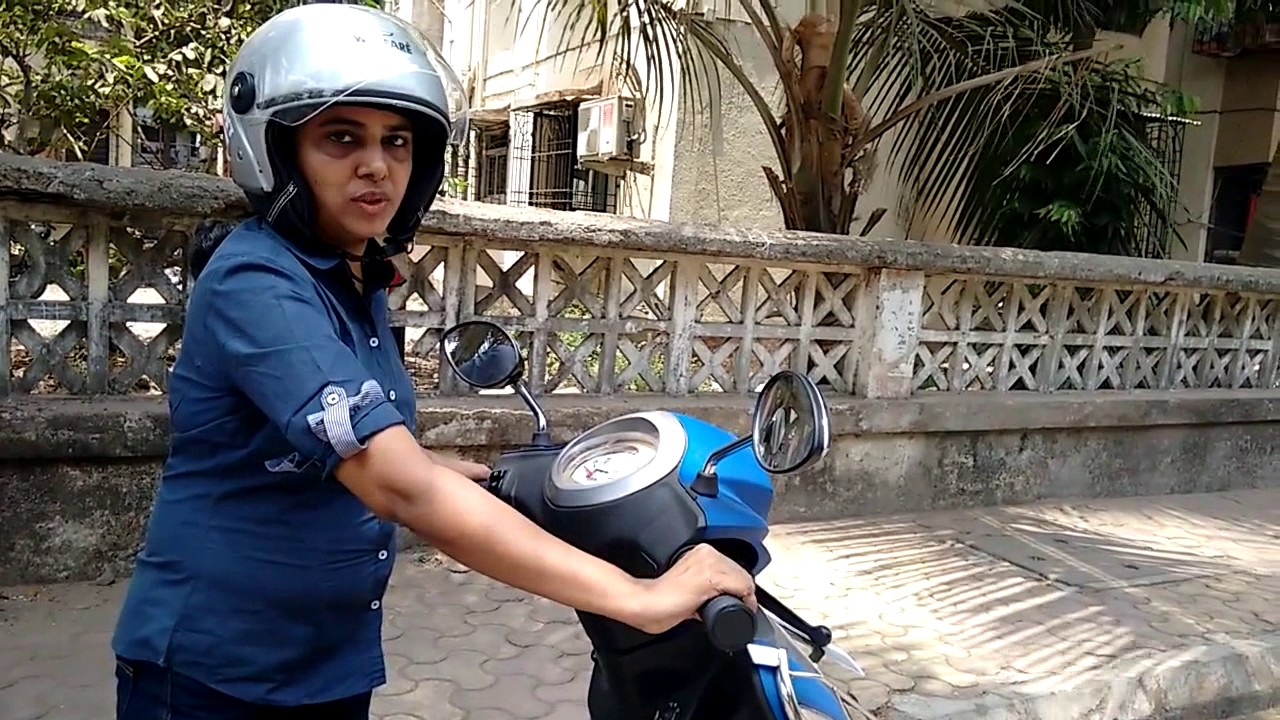with_helmet: (222, 4, 450, 237)
